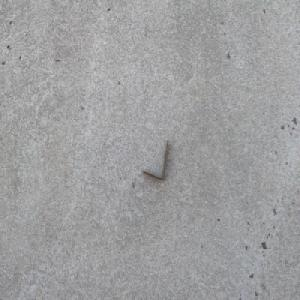MetalPart: (141, 138, 169, 181)
